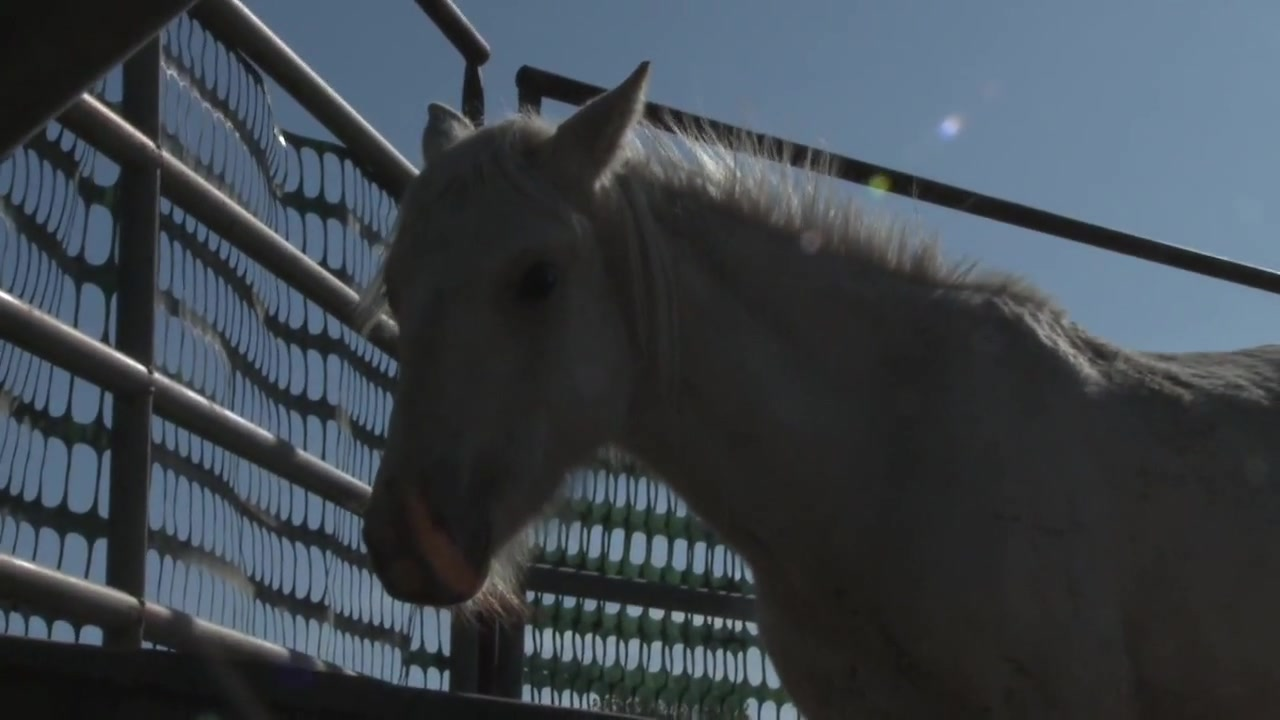horse: (357, 66, 1280, 720)
